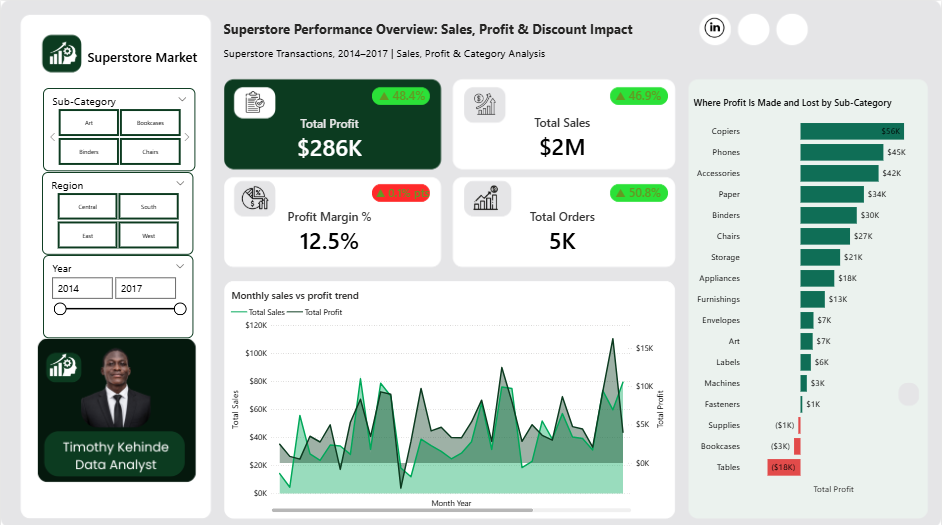

What the dashboard file says about the page in this screenshot:
{"tool":"powerbi","page":{"name":"Overview","canvas":[1920,1080],"ordinal":0},"visuals":[{"type":"cardVisual","fields":{"Data":["Sample - Superstore.Total Profit"]},"box":[521.1,210.5,300,139.5],"z":0},{"type":"cardVisual","fields":{"Data":["Sample - Superstore.Total Sales"]},"box":[988.9,211.1,311.1,137.8],"z":1000},{"type":"cardVisual","fields":{"Data":["Sample - Superstore.Profit Margin %"]},"box":[520,402.2,300,137.8],"z":2000},{"type":"cardVisual","fields":{"Data":["Sample - Superstore.Total Orders"]},"box":[988.9,402.2,311.1,137.8],"z":3000},{"type":"lineChart","title":"Monthly sales vs profit trend","fields":{"Y":["Sample - Superstore.Total Sales"],"Y2":["Sample - Superstore.Total Profit"],"Category":["Date.Month Year"]},"box":[465,585,897.5,462.5],"z":4000},{"type":"clusteredBarChart","title":"Where Profit Is Made and Lost by Sub-Category","fields":{"Y":["Sample - Superstore.Total Profit"],"Category":["Sample - Superstore.Sub-Category"]},"box":[1408.7,193.5,478.3,817.4],"z":5000},{"type":"textbox","box":[448.9,33.3,960,108.9],"z":6000},{"type":"image","box":[951.1,371.1,75.6,60],"z":7000},{"type":"image","box":[482.2,371.1,73.3,60],"z":8000},{"type":"image","box":[935.6,160,106.7,102.2],"z":9000},{"type":"image","box":[464.4,184.4,106.7,44.4],"z":10000},{"type":"slicer","fields":{"Values":["Date.Year"]},"box":[84.8,517.4,306.5,169.6],"z":11000},{"type":"slicer","fields":{"Values":["Sample - Superstore.Region"]},"box":[84.4,348.9,308.9,168.9],"z":12000},{"type":"image","box":[84.4,71.1,86.7,71.1],"z":13000},{"type":"image","box":[84.4,708.9,86.7,71.1],"z":14000},{"type":"textbox","box":[171.1,88.9,237.8,53.3],"z":15000},{"type":"cardVisual","fields":{"Data":["Sample - Superstore.Profit Growth Display"]},"box":[735.6,160,168.9,64.4],"z":16000},{"type":"cardVisual","fields":{"Data":["Sample - Superstore.Sales Growth Display"]},"box":[1215.6,160,168.9,64.4],"z":17000},{"type":"cardVisual","fields":{"Data":["Sample - Superstore.Margin Growth Display"]},"box":[728.9,348.9,182.2,82.2],"z":18000},{"type":"cardVisual","fields":{"Data":["Sample - Superstore.Orders Growth Display"]},"box":[1215.6,357.8,168.9,64.4],"z":19000},{"type":"image","box":[1410.6,33.1,92.6,44.1],"z":20000},{"type":"actionButton","box":[1423.8,17.6,79.3,72.7],"z":21000,"group":"g1"},{"type":"slicer","fields":{"Values":["Sample - Superstore.Sub-Category"]},"box":[84.8,178.3,310.9,169.6],"z":21000},{"type":"group","id":"g1","title":"Group 1","box":[1423.8,17.6,224,72.7],"z":22000},{"type":"actionButton","box":[1518.6,33,41.9,55.1],"z":22000,"group":"g1"},{"type":"actionButton","box":[1589.1,32.6,58.7,54.3],"z":24001,"group":"g1"}]}

Visuals, with their boxes in screenshot pixels (x1, y1, x2, y2), scaled from the page's 1920x1080 canvas onto the 942x525 screenshot:
cardVisual - Sample - Superstore.Total Profit: rect(256, 102, 403, 170)
cardVisual - Sample - Superstore.Total Sales: rect(485, 103, 638, 170)
cardVisual - Sample - Superstore.Profit Margin %: rect(255, 196, 402, 262)
cardVisual - Sample - Superstore.Total Orders: rect(485, 196, 638, 262)
"Monthly sales vs profit trend" lineChart: rect(228, 284, 668, 509)
"Where Profit Is Made and Lost by Sub-Category" clusteredBarChart: rect(691, 94, 926, 491)
textbox: rect(220, 16, 691, 69)
image: rect(467, 180, 504, 210)
image: rect(237, 180, 273, 210)
image: rect(459, 78, 511, 127)
image: rect(228, 90, 280, 111)
slicer - Date.Year: rect(42, 252, 192, 334)
slicer - Sample - Superstore.Region: rect(41, 170, 193, 252)
image: rect(41, 35, 84, 69)
image: rect(41, 345, 84, 379)
textbox: rect(84, 43, 201, 69)
cardVisual - Sample - Superstore.Profit Growth Display: rect(361, 78, 444, 109)
cardVisual - Sample - Superstore.Sales Growth Display: rect(596, 78, 679, 109)
cardVisual - Sample - Superstore.Margin Growth Display: rect(358, 170, 447, 210)
cardVisual - Sample - Superstore.Orders Growth Display: rect(596, 174, 679, 205)
image: rect(692, 16, 738, 38)
actionButton: rect(699, 9, 737, 44)
slicer - Sample - Superstore.Sub-Category: rect(42, 87, 194, 169)
"Group 1" group: rect(699, 9, 808, 44)
actionButton: rect(745, 16, 766, 43)
actionButton: rect(780, 16, 808, 42)
